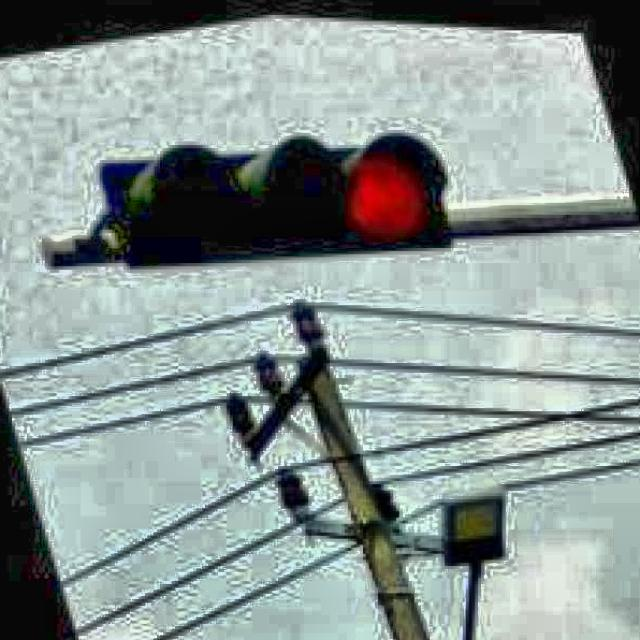red: (106, 139, 458, 254)
